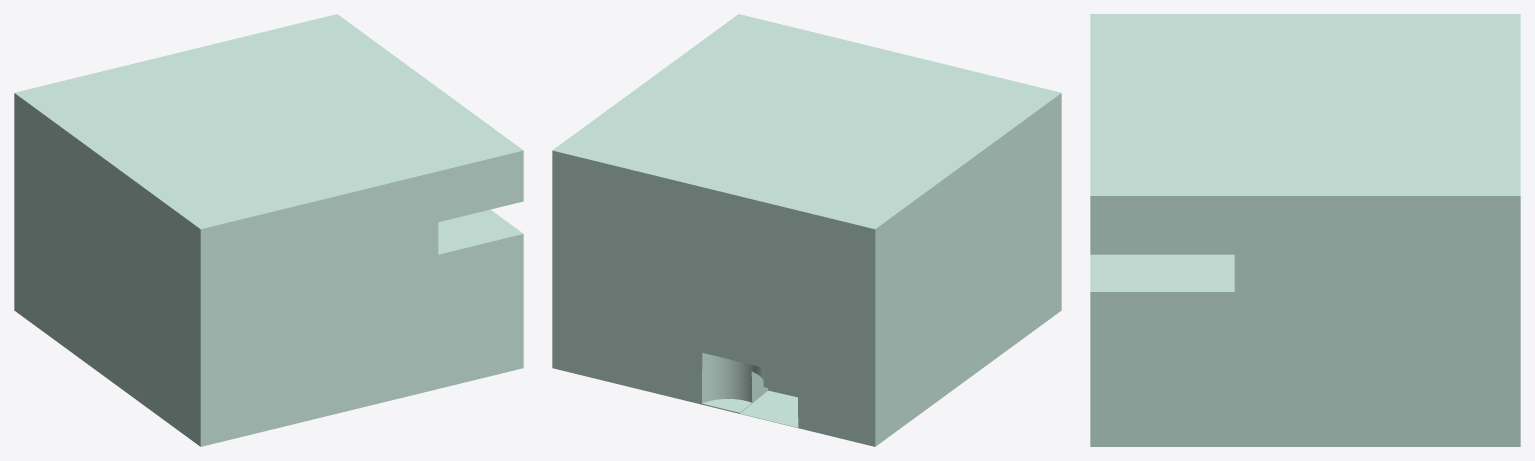
3 views of the same model, side by side, from view 1: azimuth 30°, elevation 25°; view 2: azimuth 150°, elevation 25°; view 3: azimuth 270°, elevation 25° (orthographic). The views are drawn at different scales.
Visible parts, largest first — view 1: Renderer Node; view 2: Renderer Node; view 3: Renderer Node.
Part boxes in pixels (x1,y1,x2,y2): Renderer Node: (14,14,523,446); Renderer Node: (552,14,1061,446); Renderer Node: (1090,14,1520,446).
Size of the model in its own units: 1.14 by 0.7344 by 1.14.
